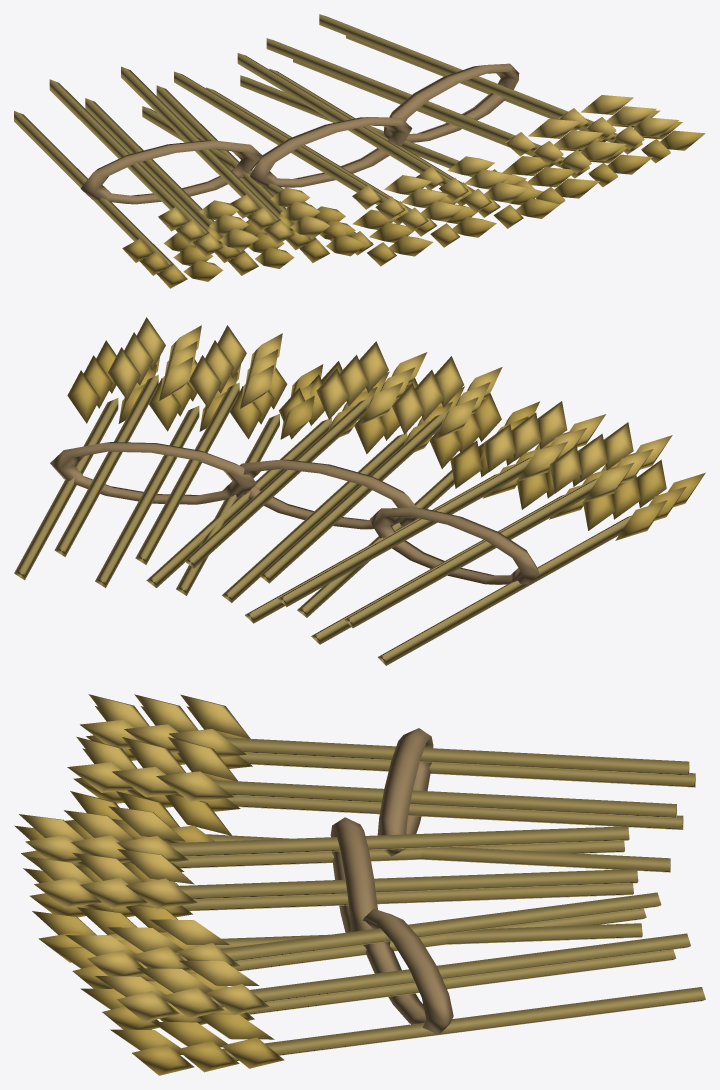
The model's file is pile-rice-3.gltf.
3 views of the same model, one above another, from view 1: azimuth 30°, elevation 25°; view 2: azimuth 150°, elevation 25°; view 3: azimuth 270°, elevation 25° (orthographic). The views are drawn at different scales.
Parts seen in each view (by area): view 1: pile-rice-3; view 2: pile-rice-3; view 3: pile-rice-3.
Boxes of the visible parts, <box> form: pile-rice-3: <box>14,14,705,288</box>; pile-rice-3: <box>14,317,705,665</box>; pile-rice-3: <box>14,694,705,1075</box>.
Bounding box in the file's own units: 0.5971 × 0.0659 × 0.5007.
